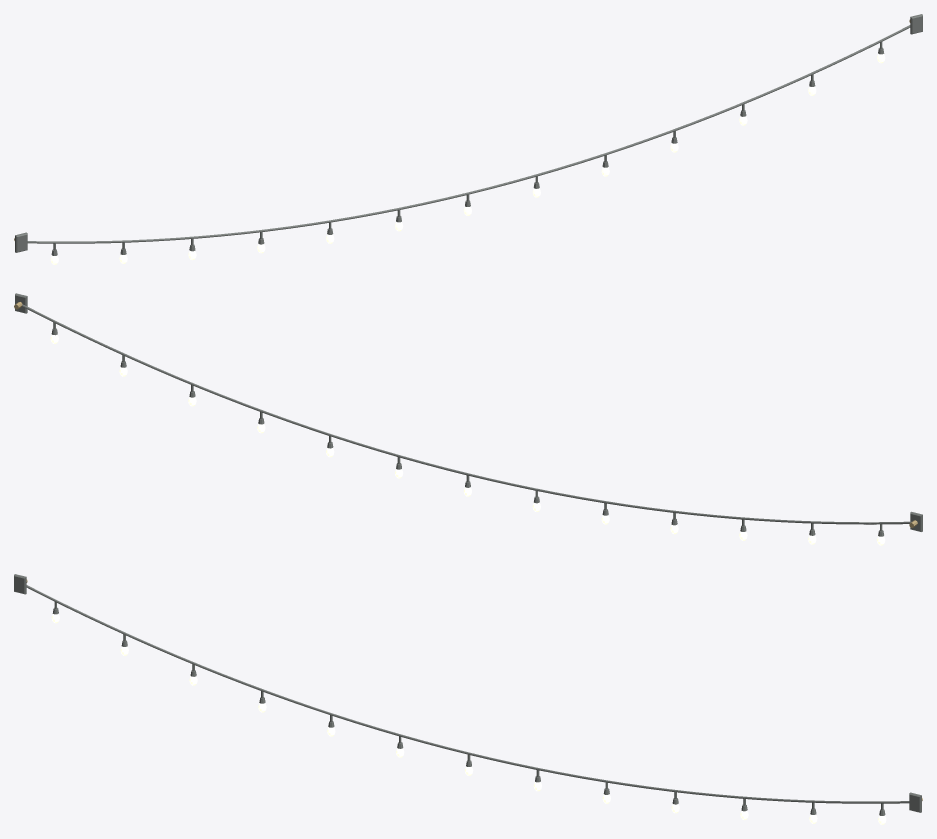
The model's file is Garland.fbx.
3 renders of one model, top to bottom at view 1: azimuth 30°, elevation 25°; view 2: azimuth 150°, elevation 25°; view 3: azimuth 330°, elevation 25°, orthographic.
Parts seen in each view (by area): view 1: Wire__Steel; view 2: Wire__Steel; view 3: Wire__Steel.
Part boxes in pixels (x1,y1,x2,y2): Wire__Steel: [27, 25, 910, 243]; Wire__Steel: [22, 304, 911, 524]; Wire__Steel: [26, 585, 909, 803].
Bounding box in the file's own units: 10.13 × 0.977 × 0.115.
